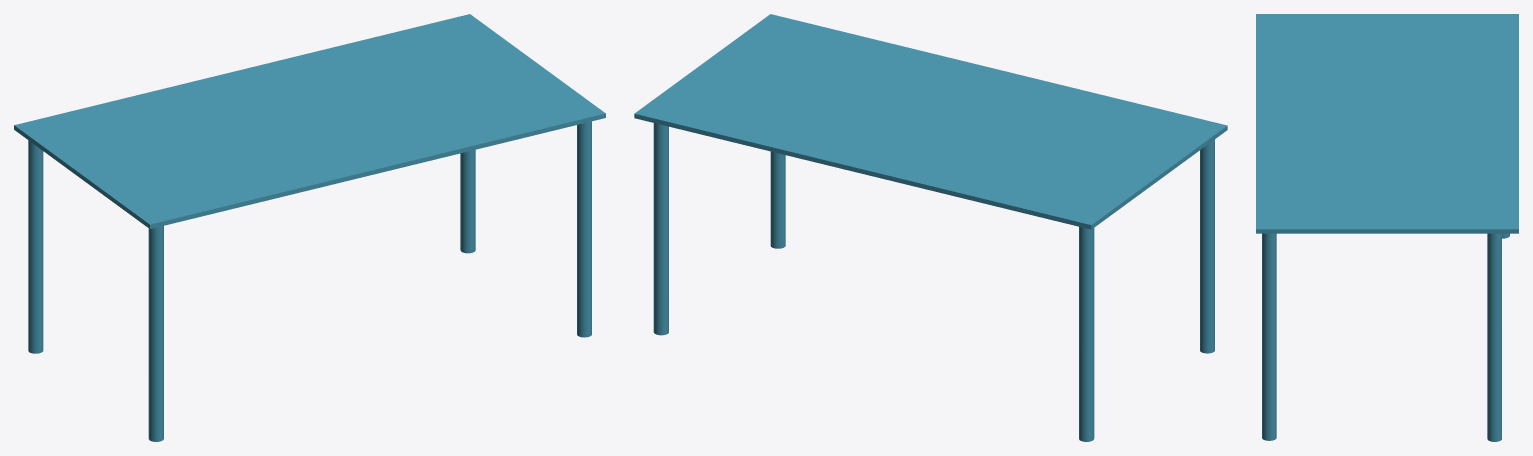
File: Desk.fbx
3 views of the same model, side by side, from view 1: azimuth 30°, elevation 25°; view 2: azimuth 150°, elevation 25°; view 3: azimuth 270°, elevation 25° (orthographic). The views are drawn at different scales.
Parts seen in each view (by area): view 1: Desk; view 2: Desk; view 3: Desk.
Part boxes in pixels (bbox=[...]): Desk: bbox=[14, 14, 605, 441]; Desk: bbox=[634, 14, 1227, 441]; Desk: bbox=[1256, 14, 1518, 441].
Size of the model in its own units: 7.52 by 3.52 by 3.88.
